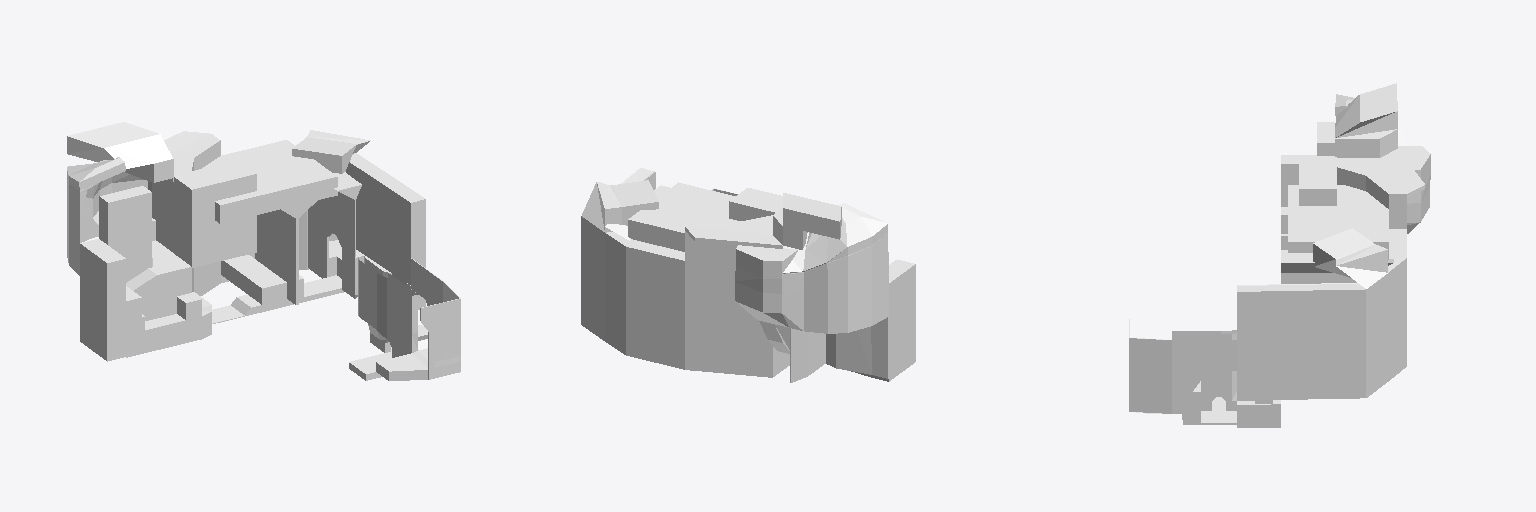
File: fullmaybe.obj
3 views of the same model, side by side, from view 1: azimuth 30°, elevation 25°; view 2: azimuth 150°, elevation 25°; view 3: azimuth 270°, elevation 25° (orthographic).
Parts seen in each view (by area): view 1: fullmaybe; view 2: fullmaybe; view 3: fullmaybe.
Part boxes in pixels (left/top/right/bottom): fullmaybe: left=67, top=122, right=460, bottom=380; fullmaybe: left=581, top=168, right=915, bottom=382; fullmaybe: left=1129, top=83, right=1430, bottom=427.
Bounding box in the file's own units: 94.93 × 66.56 × 83.48.